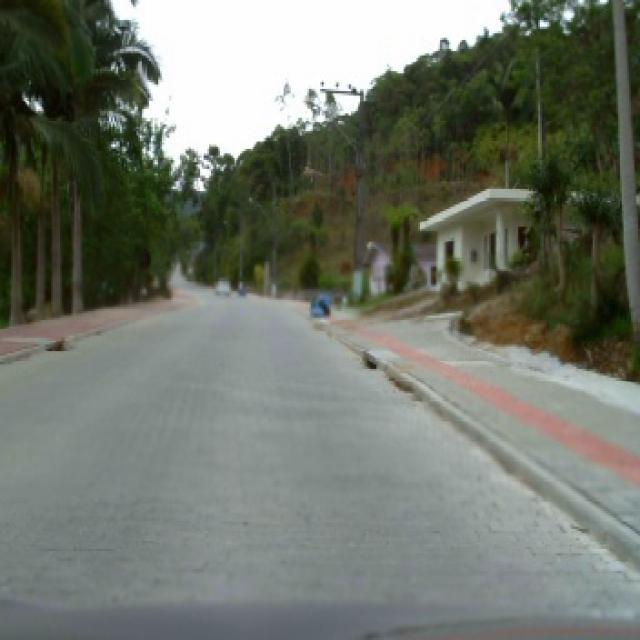Poth-hole: (42, 338, 70, 351), (362, 351, 376, 369)
